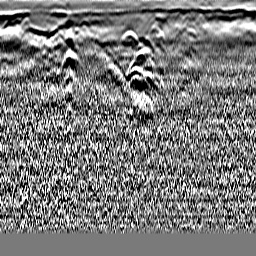cavity: (119, 28, 138, 45)
